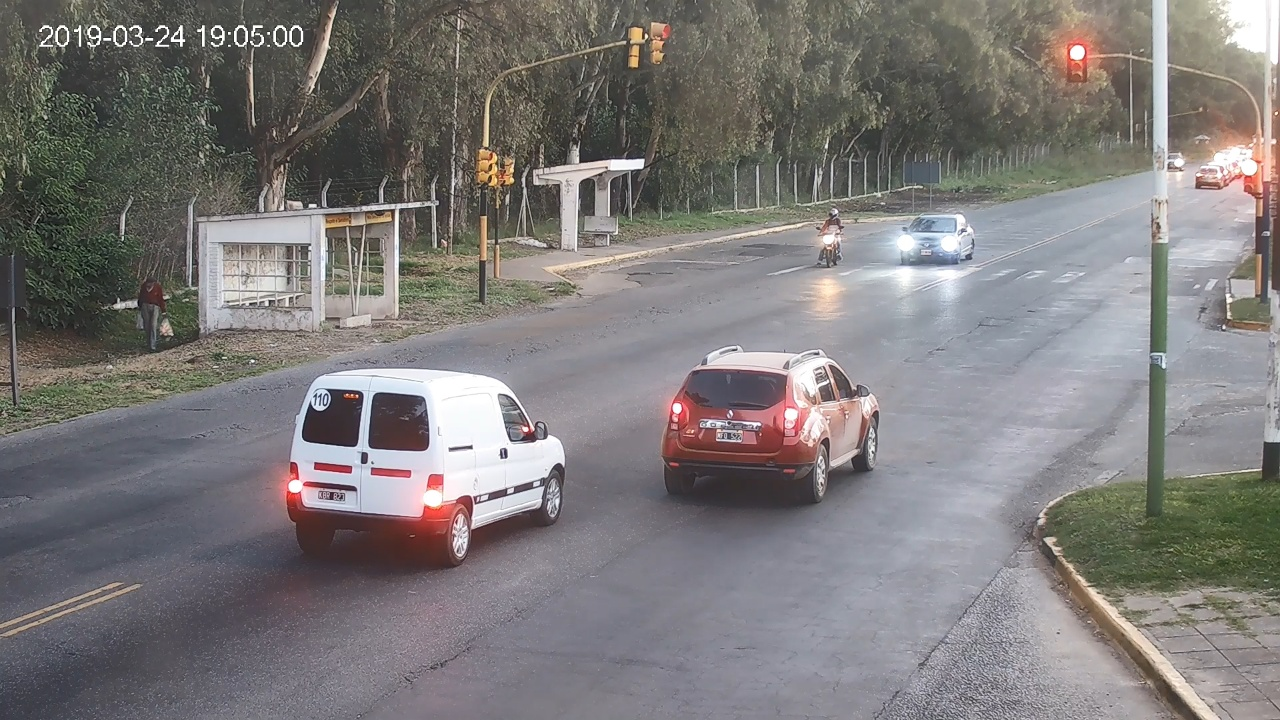car: (287, 368, 567, 566), (660, 346, 880, 502)
front car: (900, 213, 975, 264)
front motorcycle: (816, 218, 846, 268)
traffic light: (1068, 43, 1087, 83), (1242, 159, 1255, 193)
